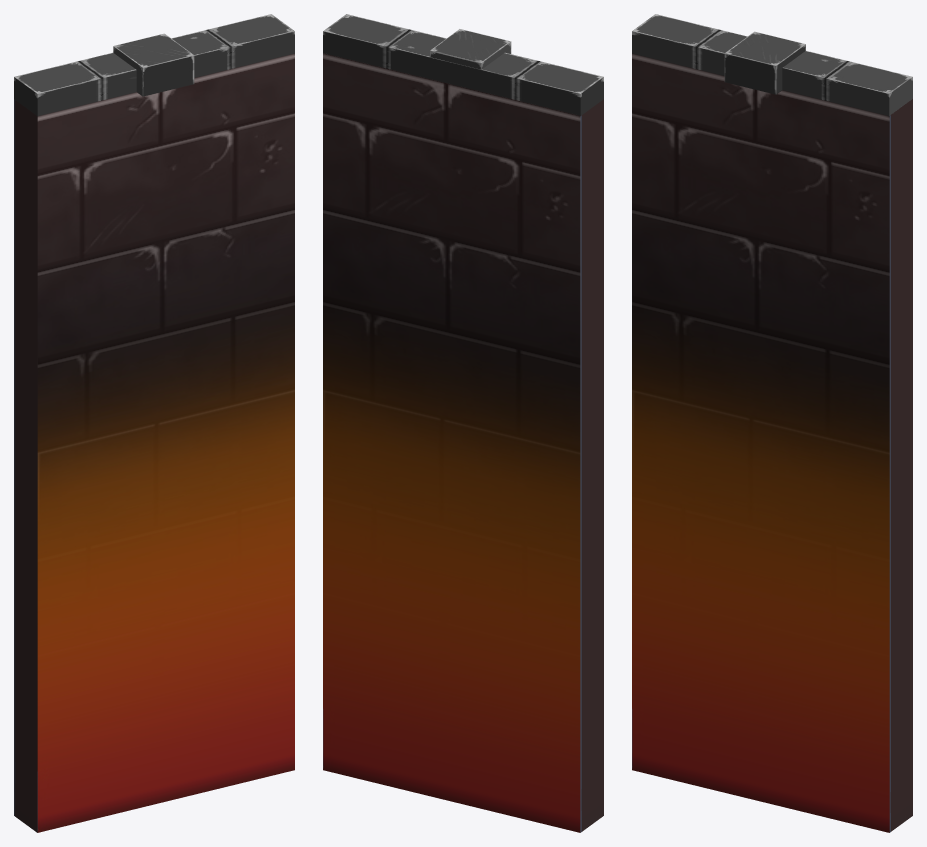
File: Standalone Wall.FBX
3 views of the same model, side by side, from view 1: azimuth 30°, elevation 25°; view 2: azimuth 150°, elevation 25°; view 3: azimuth 330°, elevation 25° (orthographic).
Visible parts, largest first — view 1: outer_corner010, outer_corner_rand009; view 2: outer_corner010, outer_corner_rand009; view 3: outer_corner010, outer_corner_rand009.
Part boxes in pixels (bbox=[...]): outer_corner010: bbox=[14, 53, 294, 832]; outer_corner_rand009: bbox=[14, 14, 294, 116]; outer_corner010: bbox=[323, 53, 603, 832]; outer_corner_rand009: bbox=[323, 14, 603, 115]; outer_corner010: bbox=[632, 53, 912, 832]; outer_corner_rand009: bbox=[632, 14, 912, 115].
Bounding box in the file's own units: 50.09 × 139 × 10.04.
